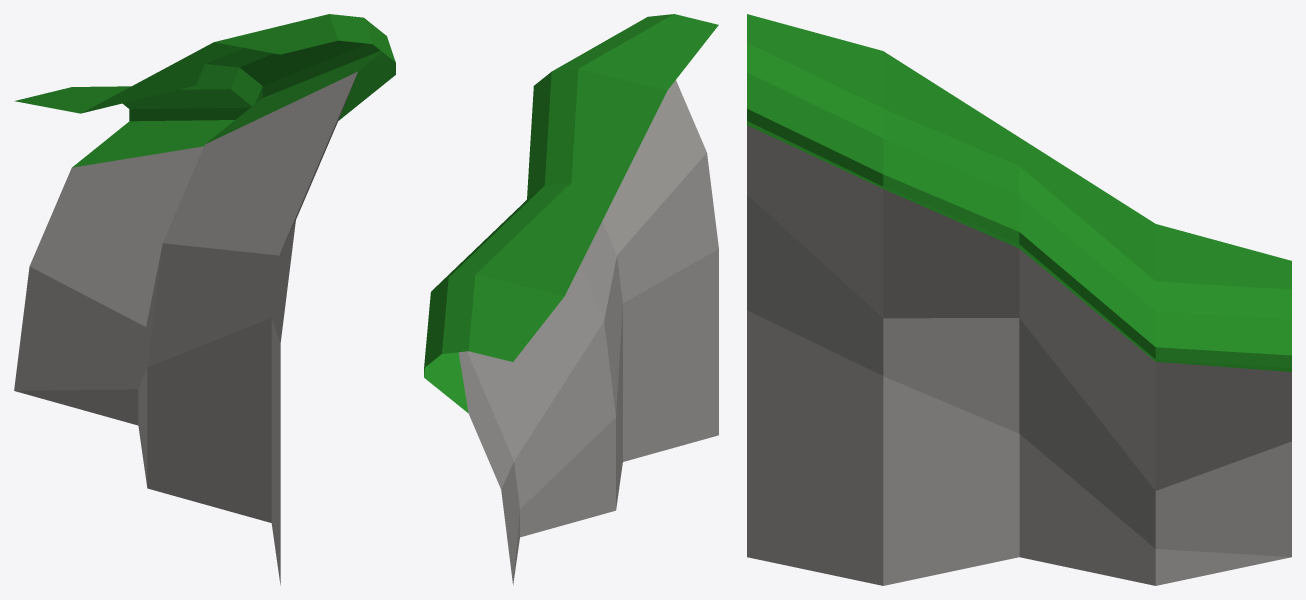
Rendered from Cliff_Terrain_Hill_Sharp_Top.obj.
The picture shows the model from 3 angles, left to right: view 1: azimuth 30°, elevation 25°; view 2: azimuth 150°, elevation 25°; view 3: azimuth 270°, elevation 25°; orthographic projection. The views are drawn at different scales.
Parts seen in each view (by area): view 1: object1; view 2: object1; view 3: object1.
Boxes of the visible parts, x1,y1,x2,y2 form: object1: (14, 14, 395, 585); object1: (424, 14, 718, 585); object1: (747, 14, 1291, 585).
Size of the model in its own units: 0.75 by 2.2 by 2.
